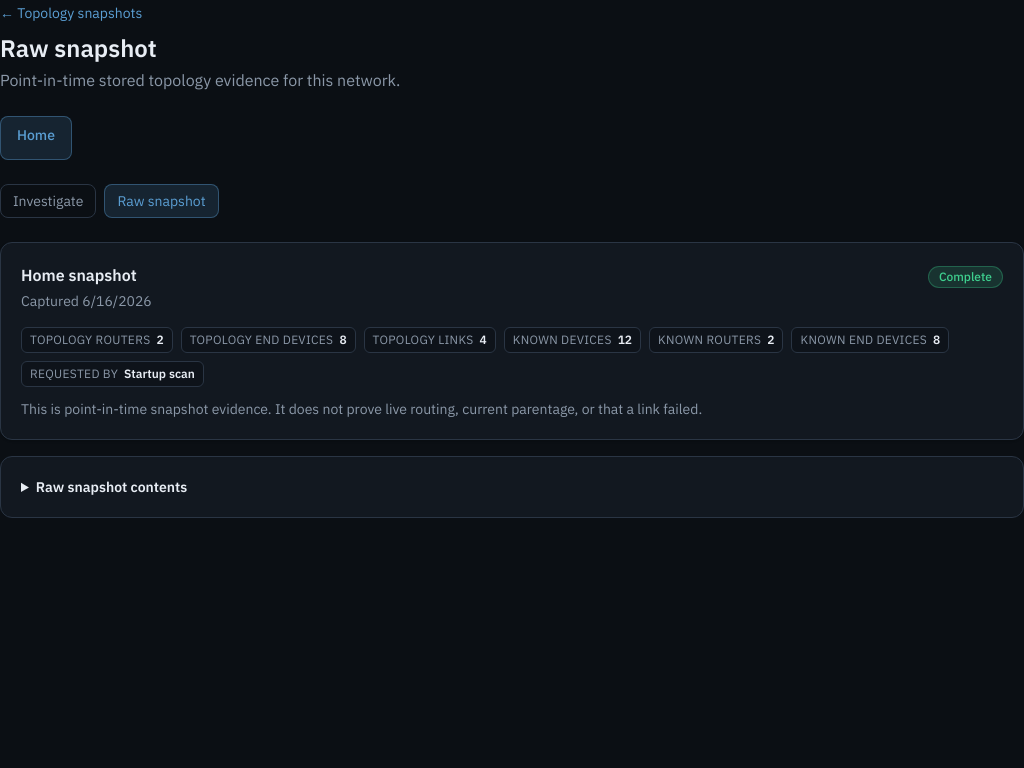
Scenario: TopologyPage raw detail refresh resilience › keeps accepted detail when a background refresh fails and retries successfully
Check: the heading "Home snapshot" is shown, box [21, 265, 137, 285]
Click the heading "Raw snapshot contents" at (112, 487), box [36, 478, 187, 496]
Wait 350 ms
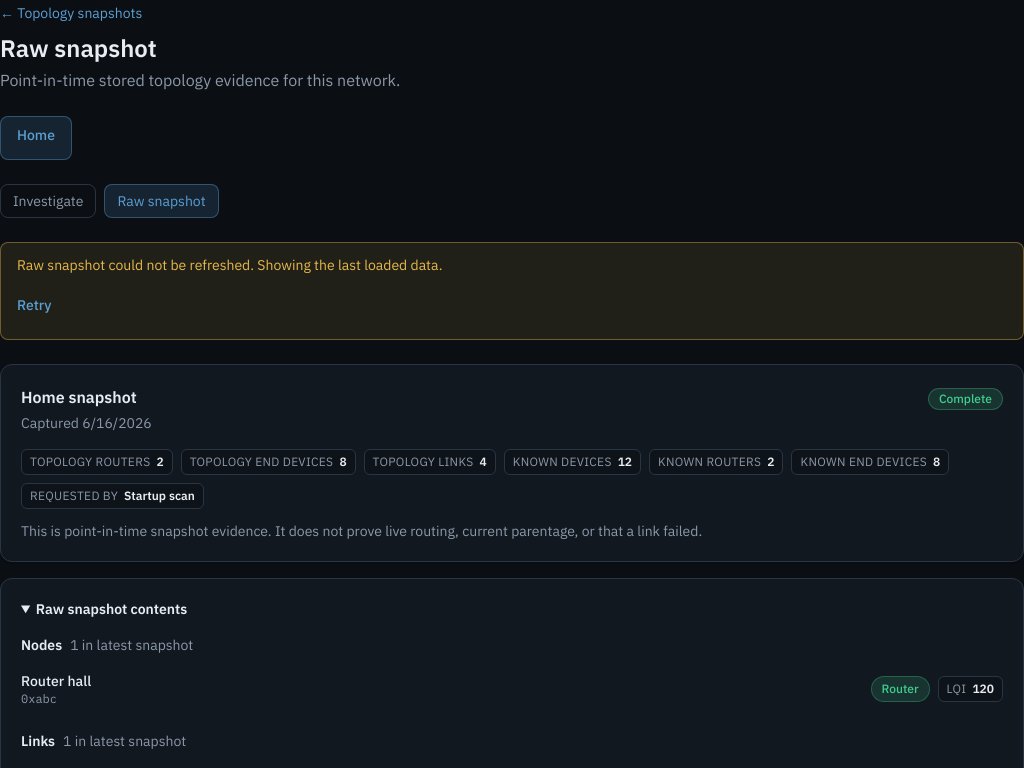
Check: the element with test id "raw-snapshot-refresh-warning" is shown, box [0, 242, 1023, 340]
Check: the text "Raw snapshot could not be refreshed. Showing the last loaded data" is shown, box [17, 256, 442, 274]
Check: the text "Router hall" is shown, box [21, 671, 91, 691]
Click the button "Retry" at (34, 305), box [17, 283, 52, 327]
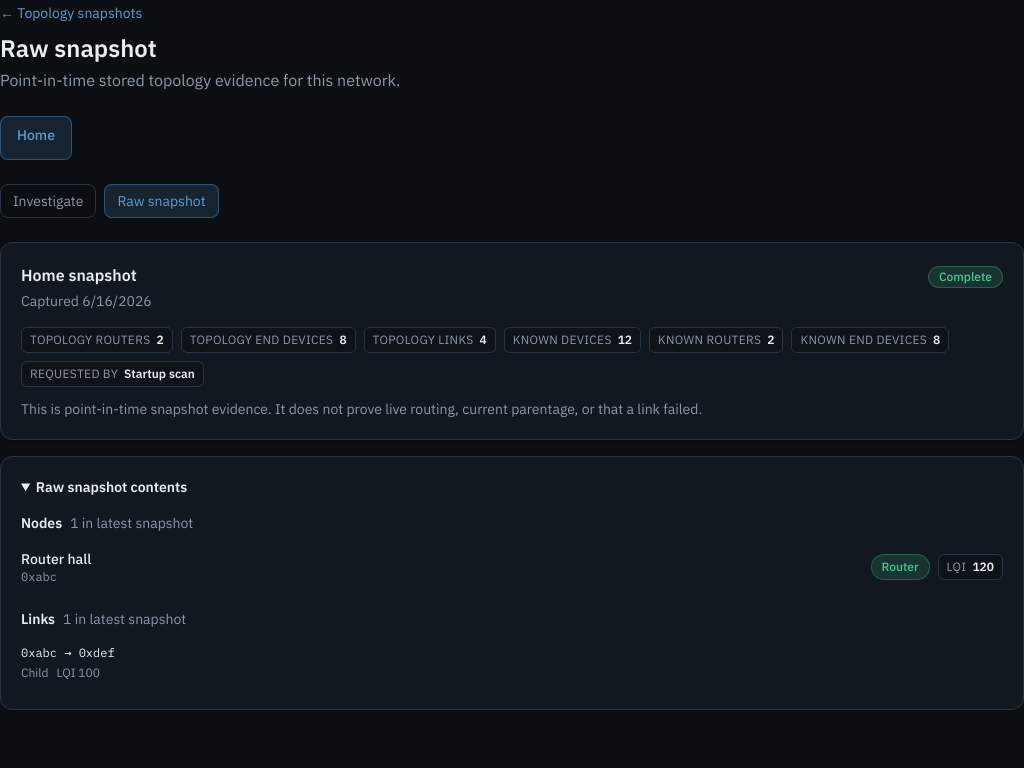
Check: the heading "Home snapshot" is shown, box [21, 265, 137, 285]
Check: the text "Router hall" is shown, box [21, 549, 91, 569]
Check: the element with test id "raw-snapshot-refresh-warning" is gone
